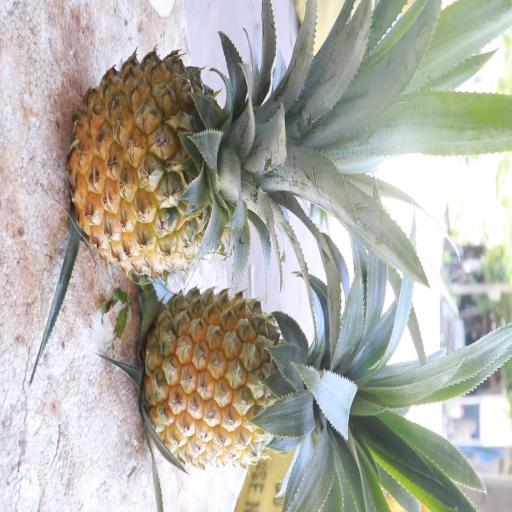Pineapple - v8 v1: (64, 39, 314, 286), (138, 281, 374, 475)
